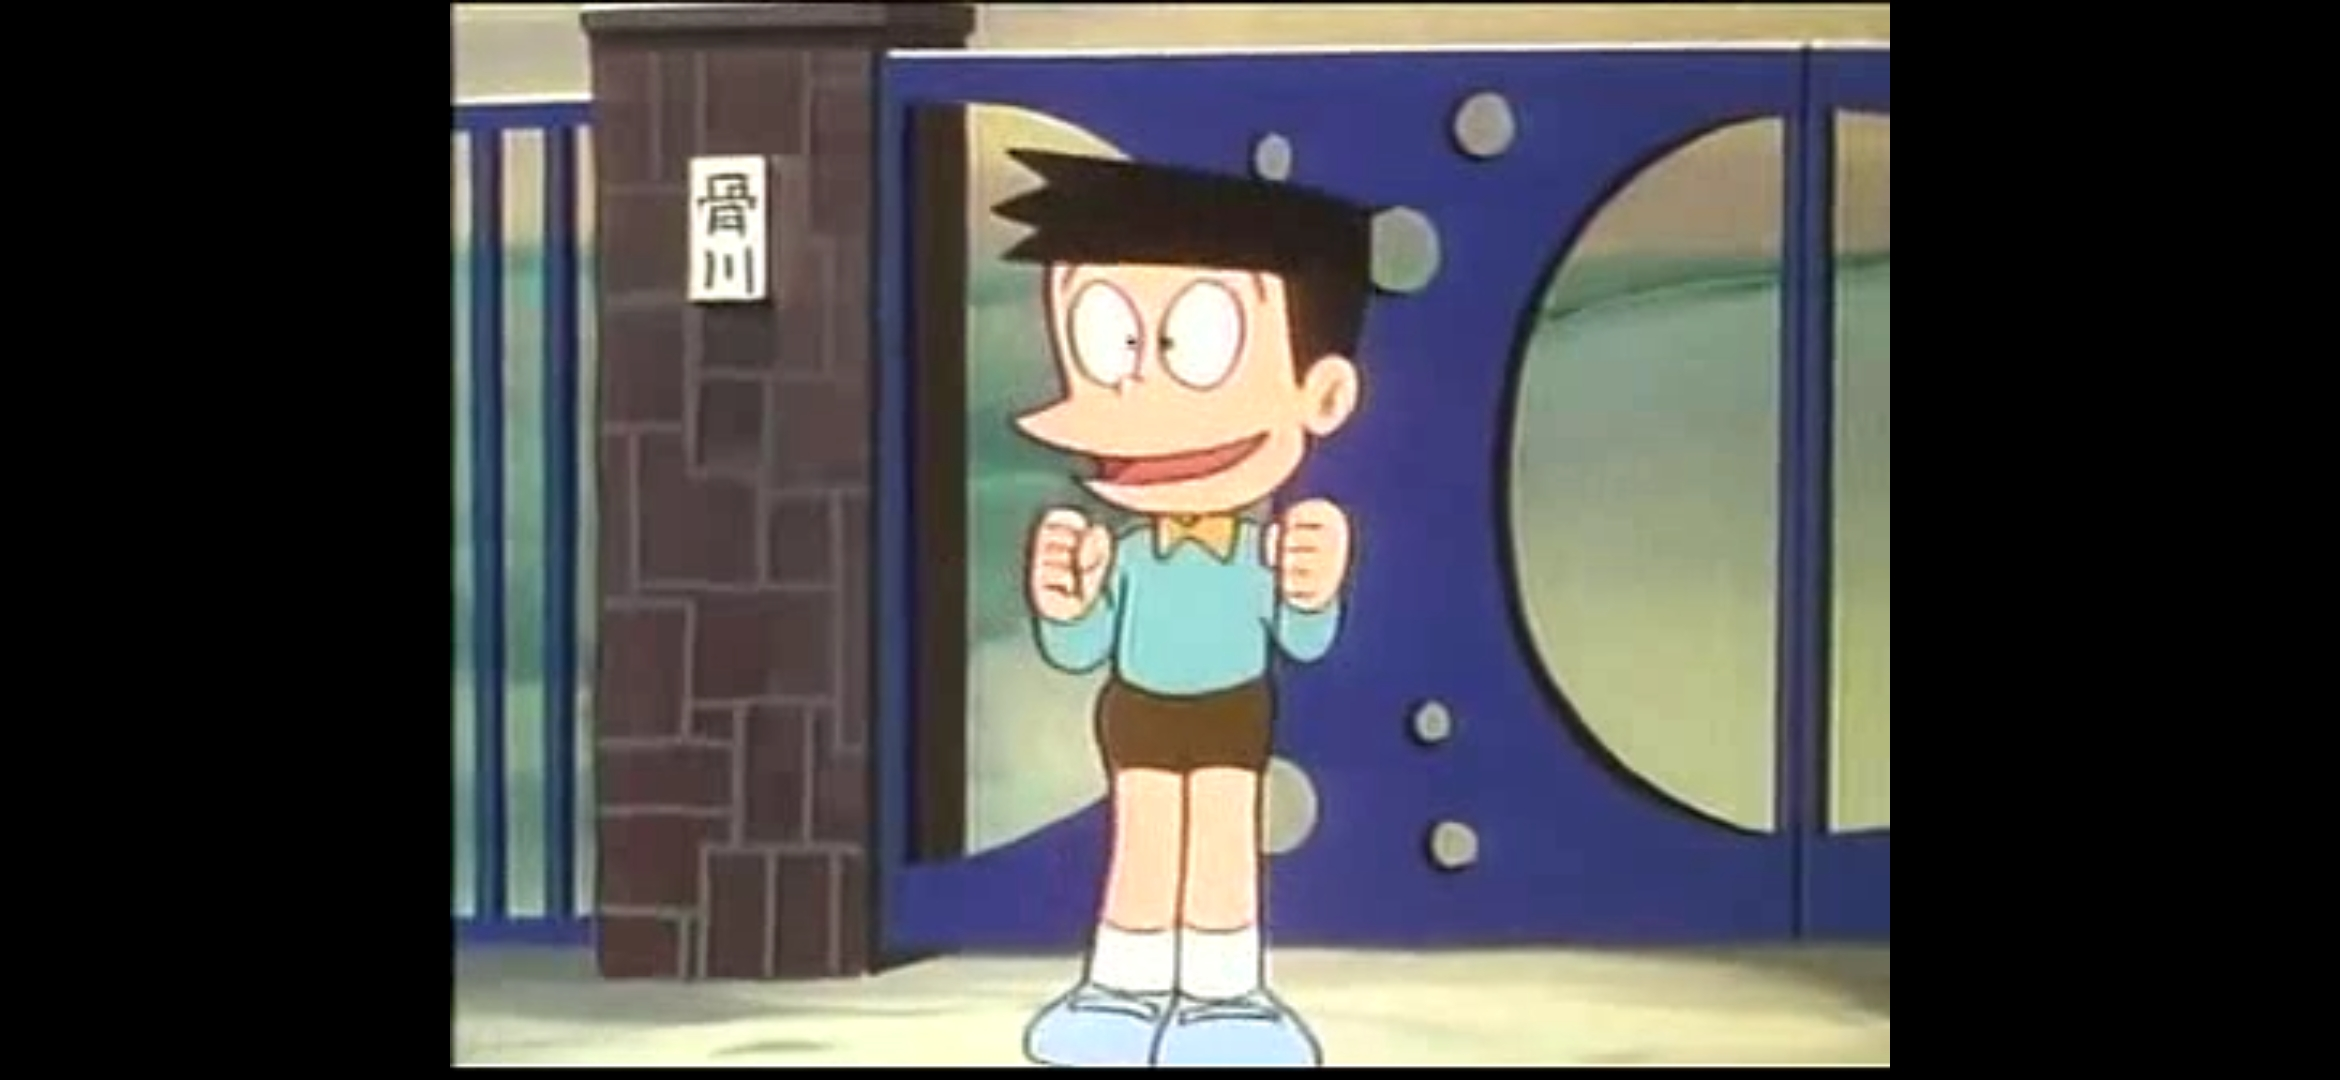Suneo: (986, 149, 1368, 515)
